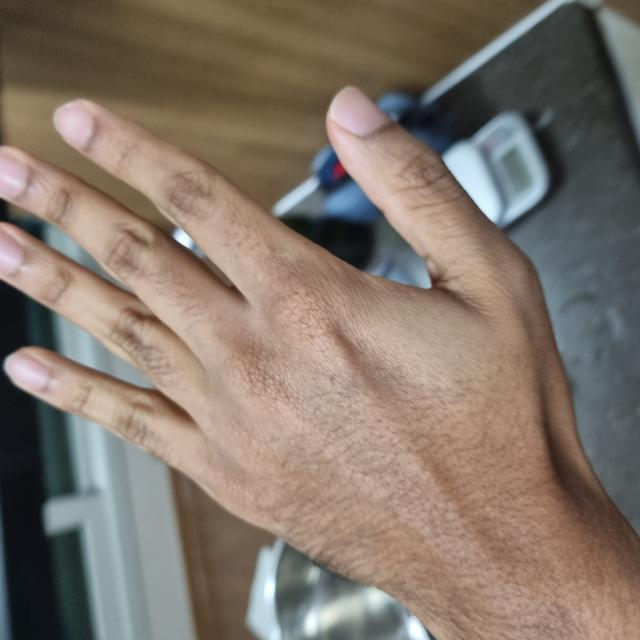Paper: (30, 1, 549, 585)
